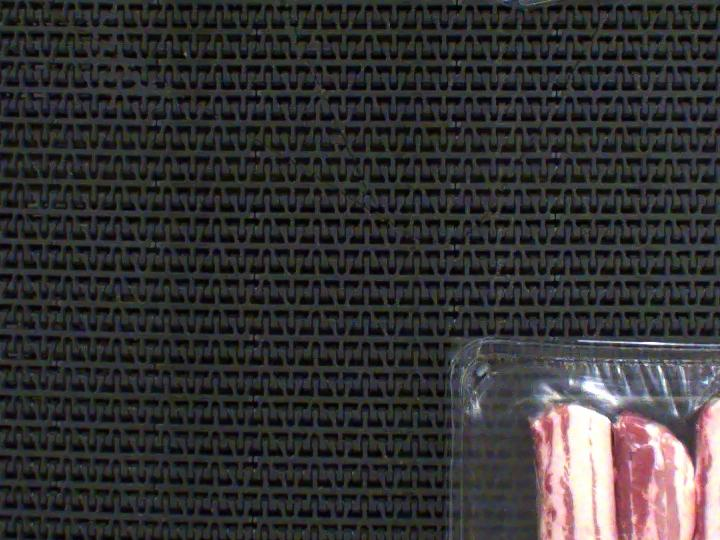unsealed: (450, 342, 720, 540)
